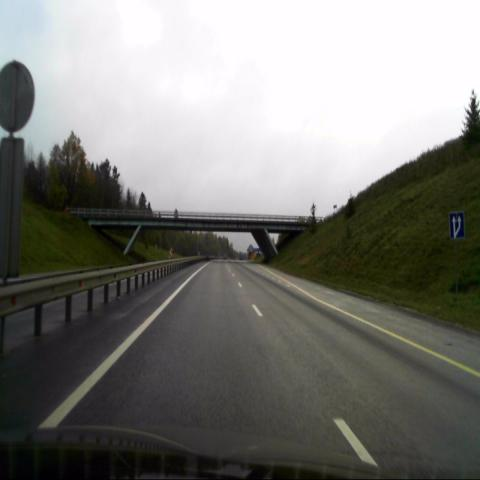5_15_3: (449, 212, 464, 238)
